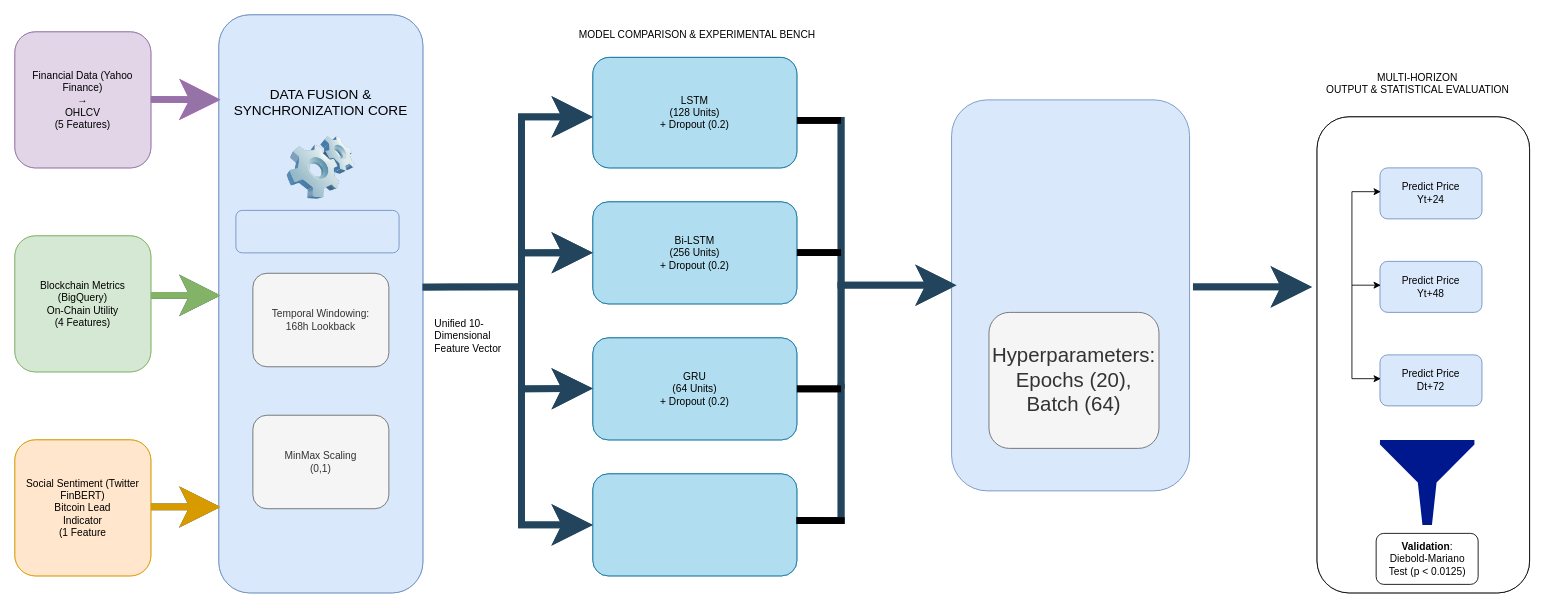
This 1552x608 diagram has some shape labels left out. The shapes that lost their labels are listed below. From the top down, each one's box as (x1, y1, x2, y2) in pixels, then its label:
(235, 210, 399, 253): Concatenation (Early Fusion)
(951, 99, 1190, 491): TRAINING & VALIDATION
(592, 473, 797, 576): Bi-GRU (128 Units) + Dropout (0.2)
